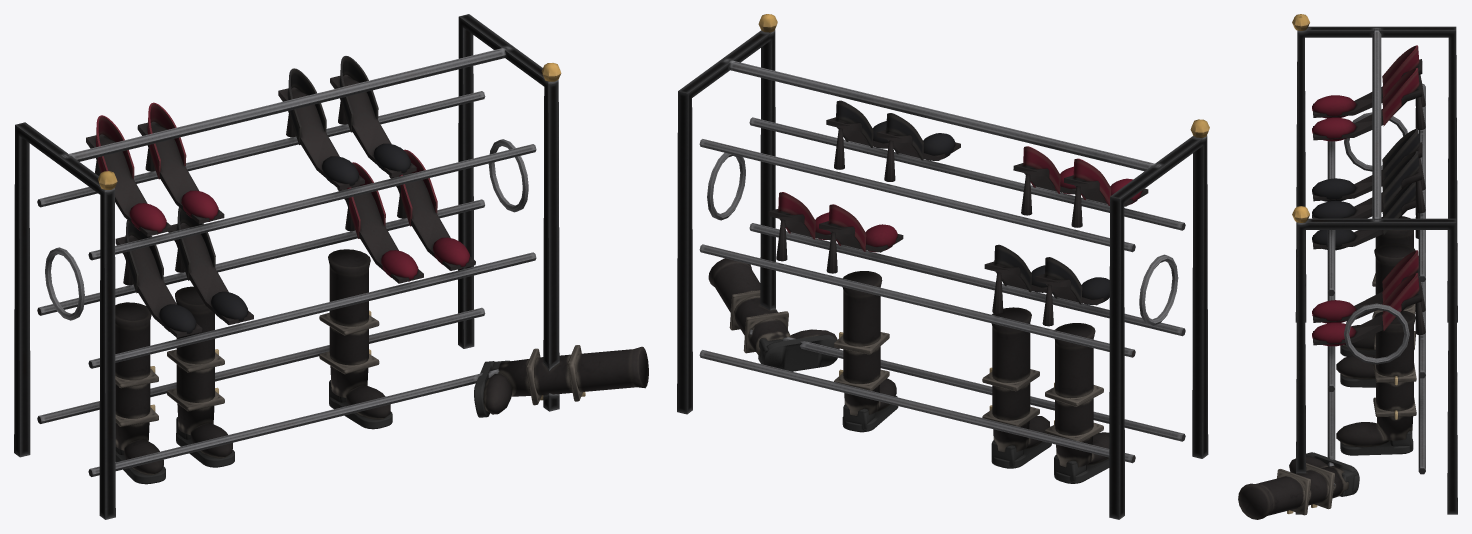
Rendered from ShoeRack.fbx.
The picture shows the model from 3 angles, left to right: view 1: azimuth 30°, elevation 25°; view 2: azimuth 150°, elevation 25°; view 3: azimuth 270°, elevation 25°; orthographic projection. The views are drawn at different scales.
Parts seen in each view (by area): view 1: ShoeRack; view 2: ShoeRack; view 3: ShoeRack.
Part boxes in pixels (x1=…): ShoeRack: x1=14, y1=14, x2=648, y2=519; ShoeRack: x1=677, y1=14, x2=1209, y2=519; ShoeRack: x1=1238, y1=14, x2=1457, y2=519.
Bounding box in the file's own units: 359 × 223 × 145.
